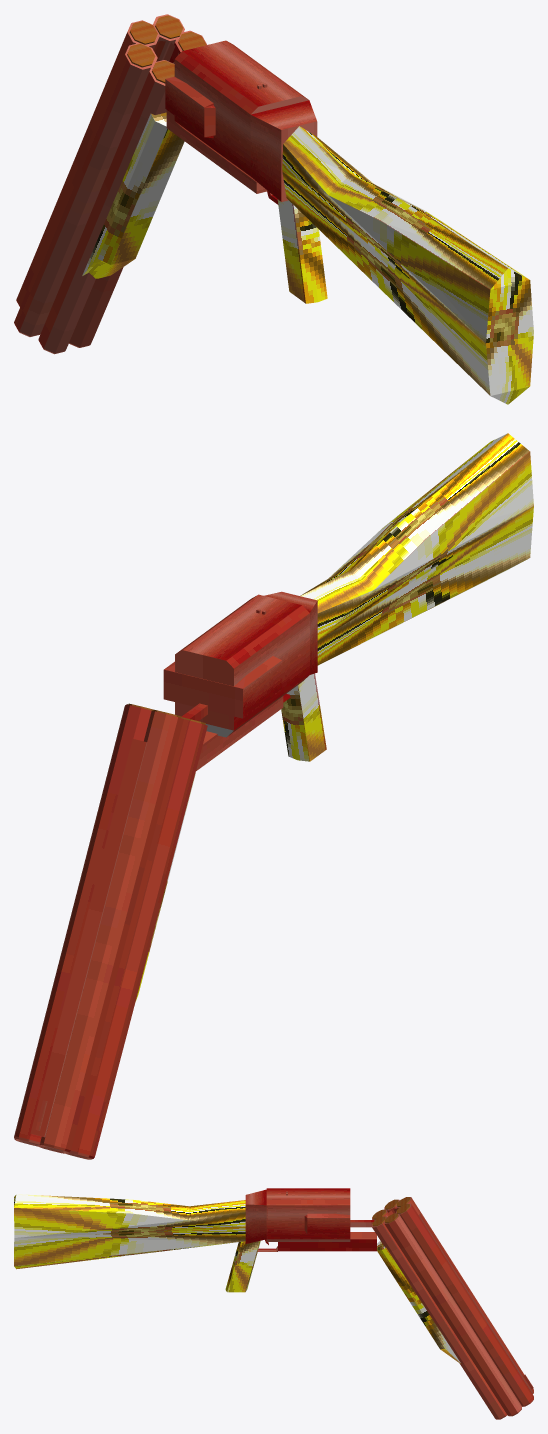
File: six_barrels_shotgun_reloading_6.obj
3 views of the same model, one above another, from view 1: azimuth 30°, elevation 25°; view 2: azimuth 150°, elevation 25°; view 3: azimuth 270°, elevation 25° (orthographic). The views are drawn at different scales.
Visible parts, largest first — view 1: Torus.009_Torus.008, Torus.000, Torus.001, Torus.003, Torus.002; view 2: Torus.009_Torus.008, Torus.000; view 3: Torus.009_Torus.008, Torus.000.
Boxes of the visible parts, <box> form: Torus.009_Torus.008: <box>165,40,533,404</box>; Torus.000: <box>14,14,206,354</box>; Torus.001: <box>155,15,183,38</box>; Torus.003: <box>127,43,155,67</box>; Torus.002: <box>129,21,157,44</box>; Torus.009_Torus.008: <box>163,433,533,770</box>; Torus.000: <box>14,704,207,1159</box>; Torus.009_Torus.008: <box>14,1188,376,1292</box>; Torus.000: <box>372,1197,533,1419</box>.
Bounding box in the file's own units: 0.6336 × 3.09 × 6.56.
